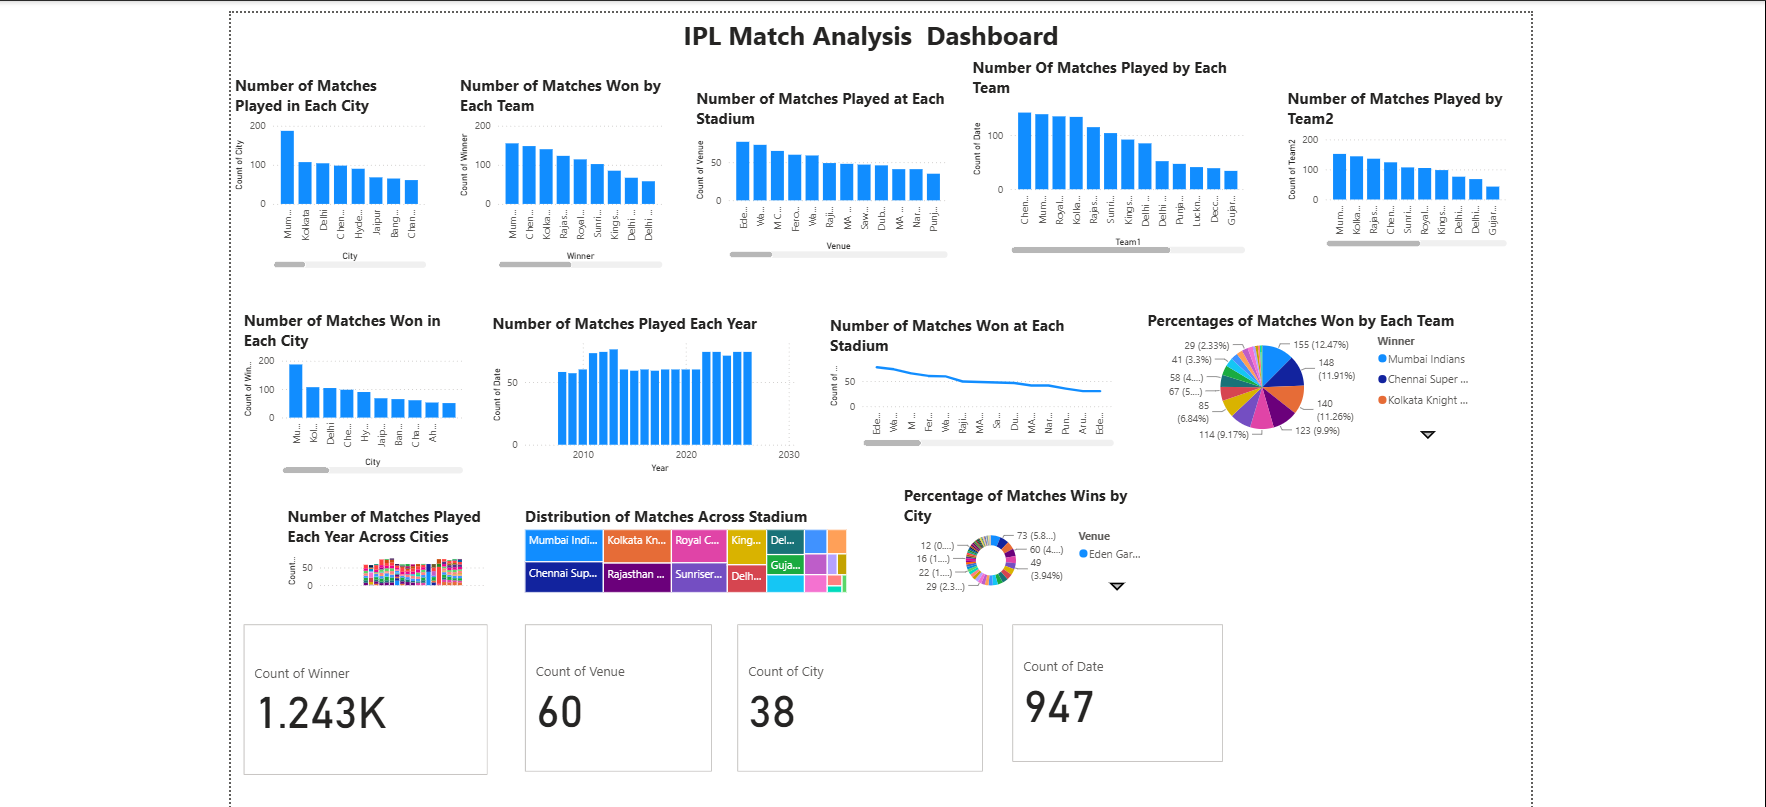

Layout of this report page (visuals, bound fields, positions):
{"tool":"powerbi","page":{"name":"Page 1","canvas":[1600,1000],"ordinal":0},"visuals":[{"type":"clusteredColumnChart","title":"Number of Matches Played in Each City","fields":{"Category":["ipl_matches.City"],"Y":["CountNonNull(ipl_matches.City)"]},"box":[0,76,245.3,243.6],"z":0},{"type":"clusteredColumnChart","title":"Number of Matches Won by Each Team ","fields":{"Category":["ipl_matches.Winner"],"Y":["CountNonNull(ipl_matches.Winner)"]},"box":[276.4,76,259.2,243.6],"z":1000},{"type":"clusteredColumnChart","title":"Number Of Matches Played by Each Team ","fields":{"Category":["ipl_matches.Team1"],"Y":["CountNonNull(ipl_matches.Date)"]},"box":[907.1,53.6,345.5,247.1],"z":2000},{"type":"clusteredColumnChart","title":"Number of Matches  Played at Each Stadium ","fields":{"Category":["ipl_matches.Venue"],"Y":["CountNonNull(ipl_matches.Venue)"]},"box":[568.4,91.6,319.6,214.2],"z":3000},{"type":"clusteredColumnChart","title":"Number of Matches  Played by Team2 ","fields":{"Category":["ipl_matches.Team2"],"Y":["CountNonNull(ipl_matches.Team2)"]},"box":[1295.8,91.6,279.9,200.4],"z":4000},{"type":"clusteredColumnChart","title":"Number of Matches Won in Each City ","fields":{"Category":["ipl_matches.City"],"Y":["CountNonNull(ipl_matches.Winner)"]},"box":[10.4,364.5,279.9,207.3],"z":5000},{"type":"clusteredColumnChart","title":"Number of Matches Played Each Year ","fields":{"Category":["ipl_matches.Date.Variation.Date Hierarchy.Year","ipl_matches.Date.Variation.Date Hierarchy.Quarter","ipl_matches.Date.Variation.Date Hierarchy.Month","ipl_matches.Date.Variation.Date Hierarchy.Day"],"Y":["CountNonNull(ipl_matches.Date)"]},"box":[316.2,369.7,388.7,202.1],"z":6000},{"type":"lineChart","title":"Number of Matches Won at Each Stadium ","fields":{"Category":["ipl_matches.Venue"],"Y":["CountNonNull(ipl_matches.Winner)"]},"box":[732.6,371.5,359.4,167.6],"z":7000},{"type":"pieChart","title":"Percentages of Matches Won by Each Team ","fields":{"Category":["ipl_matches.Winner"],"Y":["CountNonNull(ipl_matches.Winner)"]},"box":[1123,364.5,414.7,167.6],"z":8000},{"type":"donutChart","title":"Percentage of Matches Wins by City ","fields":{"Category":["ipl_matches.Venue"],"Y":["CountNonNull(ipl_matches.Venue)"]},"box":[822.4,580.5,317.9,138.2],"z":9000},{"type":"treemap","title":"Distribution of Matches Across Stadium ","fields":{"Values":["CountNonNull(ipl_matches.Winner)"],"Group":["ipl_matches.Winner"]},"box":[357.6,606.4,406,112.3],"z":10000},{"type":"columnChart","title":"Number of Matches Played Each Year  Across Cities ","fields":{"Category":["ipl_matches.Date.Variation.Date Hierarchy.Year","ipl_matches.Date.Variation.Date Hierarchy.Quarter","ipl_matches.Date.Variation.Date Hierarchy.Month","ipl_matches.Date.Variation.Date Hierarchy.Day"],"Y":["CountNonNull(ipl_matches.Date)"],"Series":["ipl_matches.City"]},"box":[63.9,606.4,252.2,112.3],"z":11000},{"type":"cardVisual","fields":{"Data":["Count(ipl_matches.Date)"]},"box":[957.2,748.1,269.5,179.7],"z":12000},{"type":"cardVisual","fields":{"Data":["Count(ipl_matches.City)"]},"box":[618.5,748.1,312.7,191.8],"z":13000},{"type":"cardVisual","fields":{"Data":["Count(ipl_matches.Venue)"]},"box":[357.6,748.1,240.2,191.8],"z":14000},{"type":"cardVisual","fields":{"Data":["CountNonNull(ipl_matches.Winner)"]},"box":[10.4,748.1,311,195.2],"z":15000},{"type":"textbox","box":[0,0,1575.7,53.6],"z":17000}]}

Visuals, with their boxes in screenshot pixels (x1, y1, x2, y2):
"Number of Matches Played in Each City" clusteredColumnChart: rect(322, 19, 517, 212)
"Number of Matches Won by Each Team " clusteredColumnChart: rect(541, 19, 747, 212)
"Number Of Matches Played by Each Team " clusteredColumnChart: rect(1042, 1, 1316, 197)
"Number of Matches  Played at Each Stadium " clusteredColumnChart: rect(773, 31, 1027, 201)
"Number of Matches  Played by Team2 " clusteredColumnChart: rect(1350, 31, 1573, 190)
"Number of Matches Won in Each City " clusteredColumnChart: rect(330, 248, 552, 412)
"Number of Matches Played Each Year " clusteredColumnChart: rect(573, 252, 881, 412)
"Number of Matches Won at Each Stadium " lineChart: rect(903, 253, 1189, 386)
"Percentages of Matches Won by Each Team " pieChart: rect(1213, 248, 1542, 381)
"Percentage of Matches Wins by City " donutChart: rect(975, 419, 1227, 529)
"Distribution of Matches Across Stadium " treemap: rect(606, 440, 928, 529)
"Number of Matches Played Each Year  Across Cities " columnChart: rect(373, 440, 573, 529)
cardVisual - Count(ipl_matches.Date): rect(1082, 552, 1296, 695)
cardVisual - Count(ipl_matches.City): rect(813, 552, 1061, 705)
cardVisual - Count(ipl_matches.Venue): rect(606, 552, 796, 705)
cardVisual - CountNonNull(ipl_matches.Winner): rect(330, 552, 577, 707)
textbox: rect(322, 0, 1573, 1)
